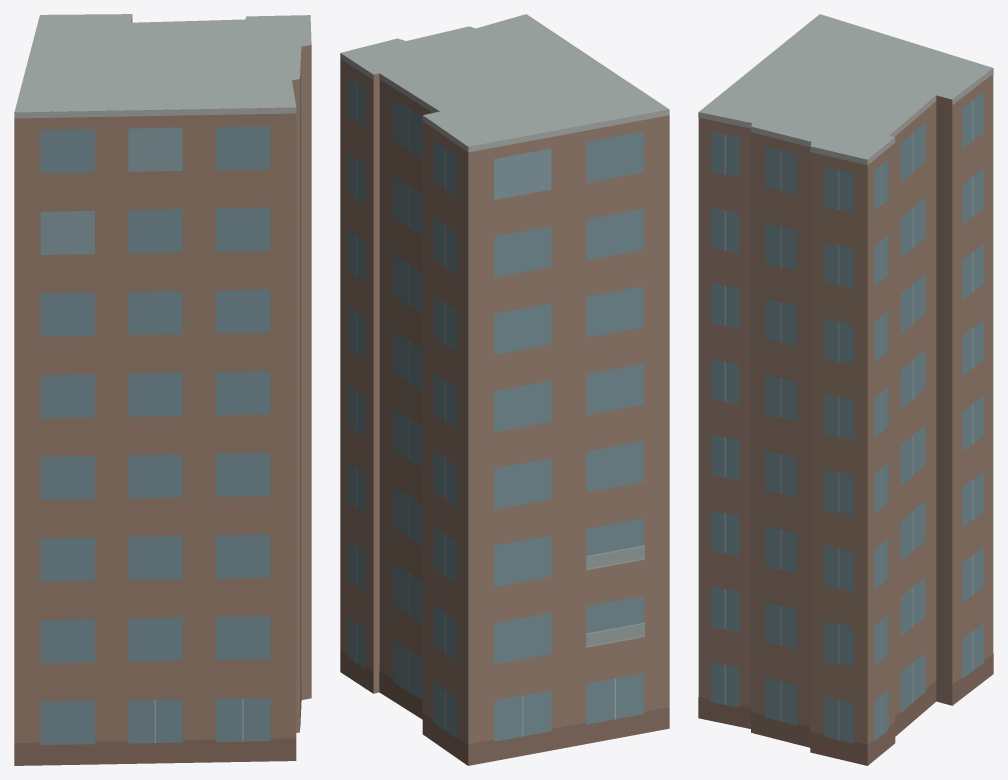
The model's file is survey-upis-32521965.glb.
The picture shows the model from 3 angles, left to right: view 1: azimuth 30°, elevation 25°; view 2: azimuth 150°, elevation 25°; view 3: azimuth 270°, elevation 25°; orthographic projection. The views are drawn at different scales.
Visible parts, largest first — view 1: survey-upis-32521965.tmp; view 2: survey-upis-32521965.tmp; view 3: survey-upis-32521965.tmp.
Part boxes in pixels (x1,y1,x2,y2): survey-upis-32521965.tmp: (14, 14, 311, 765); survey-upis-32521965.tmp: (340, 14, 669, 765); survey-upis-32521965.tmp: (698, 14, 993, 765).
Bounding box in the file's own units: 13.62 × 26.4 × 11.65.
